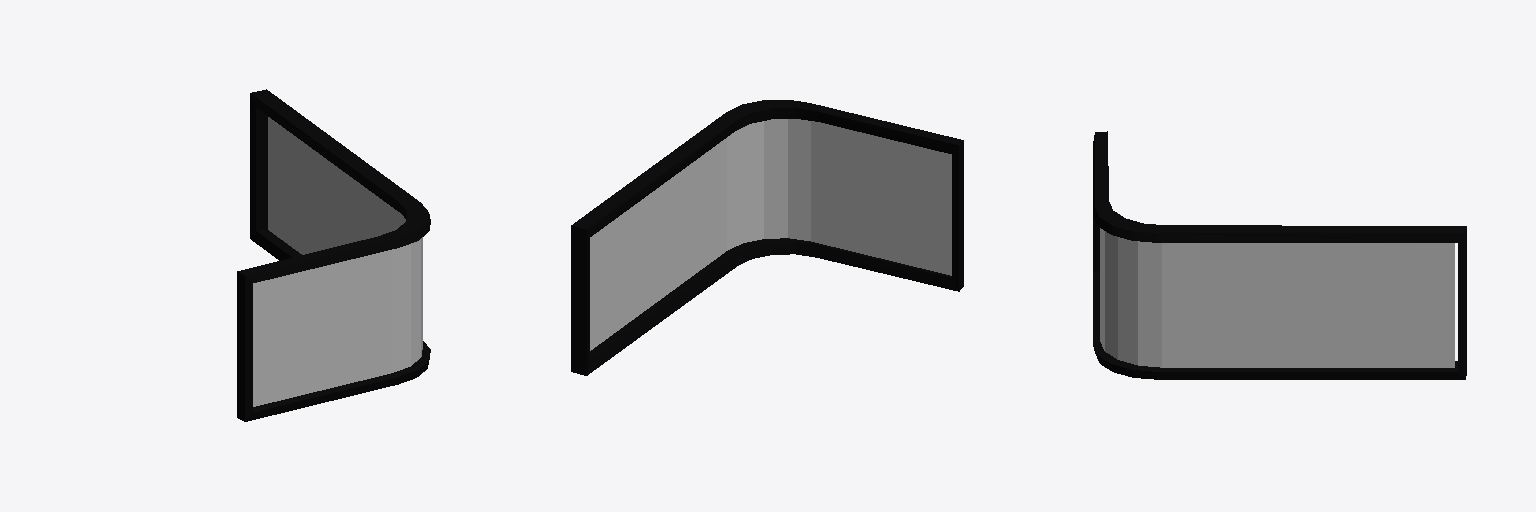
Rendered from signCorner.obj.
3 views of the same model, side by side, from view 1: azimuth 30°, elevation 25°; view 2: azimuth 150°, elevation 25°; view 3: azimuth 270°, elevation 25° (orthographic).
Parts seen in each view (by area): view 1: signCorner_0; view 2: signCorner_0; view 3: signCorner_0.
Boxes of the visible parts, x1,y1,x2,y2 form: signCorner_0: [237, 89, 430, 421]; signCorner_0: [571, 100, 963, 375]; signCorner_0: [1093, 131, 1466, 379].
Bounding box in the file's own units: 1.09 × 0.7269 × 1.68.